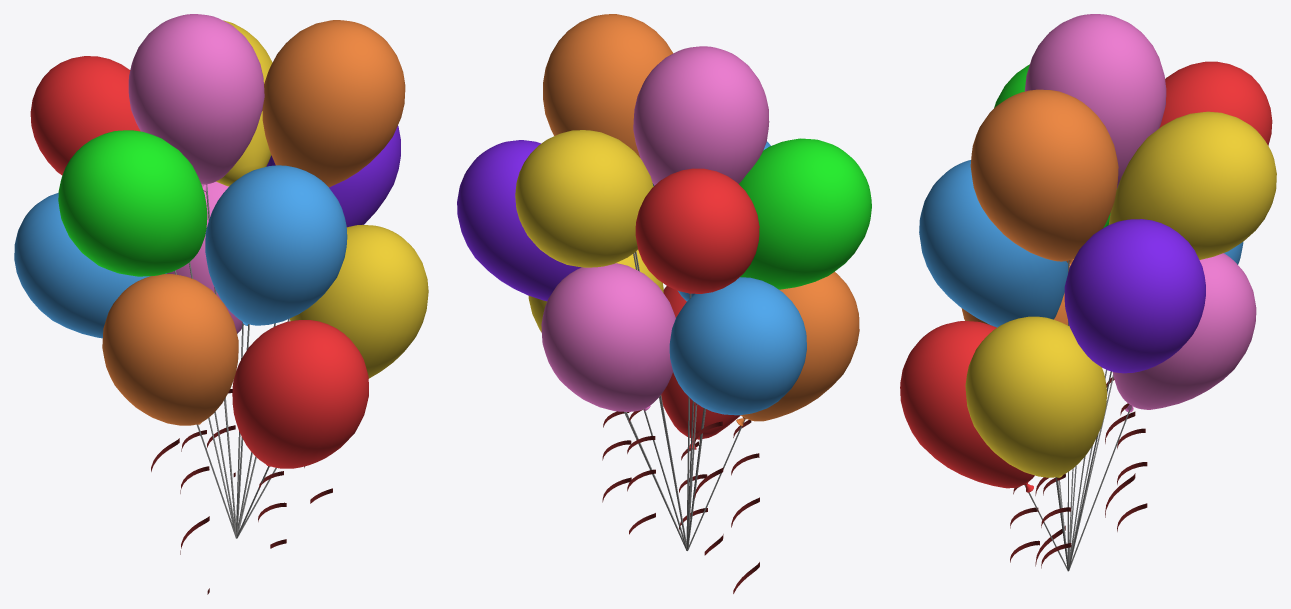
The model's file is balloon.fbx.
The picture shows the model from 3 angles, left to right: view 1: azimuth 30°, elevation 25°; view 2: azimuth 150°, elevation 25°; view 3: azimuth 270°, elevation 25°; orthographic projection. The views are drawn at different scales.
Visible parts, largest first — view 1: Sphere.001, Sphere, Sphere.003, Sphere.002, Sphere.004, Sphere.005, Sphere.006, Sphere.008, Sphere.011, Sphere.007, Sphere.010, Sphere.009; view 2: Sphere.009, Sphere.003, Sphere.008, Sphere.002, Sphere.010, Sphere.011, Sphere.001, Sphere.007, Sphere.004, Sphere.005, Sphere.006; view 3: Sphere.001, Sphere.006, Sphere.007, Sphere.010, Sphere, Sphere.002, Sphere.005, Sphere.009, Sphere.011, Sphere.003, Plane.001.
Part boxes in pixels (x1=…): Sphere.001: x1=262, y1=20, x2=405, y2=187; Sphere: x1=205, y1=165, x2=347, y2=325; Sphere.003: x1=58, y1=130, x2=207, y2=276; Sphere.002: x1=128, y1=14, x2=264, y2=192; Sphere.004: x1=102, y1=274, x2=238, y2=425; Sphere.005: x1=232, y1=320, x2=368, y2=468; Sphere.006: x1=290, y1=224, x2=428, y2=378; Sphere.008: x1=14, y1=192, x2=166, y2=338; Sphere.011: x1=30, y1=56, x2=140, y2=175; Sphere.007: x1=266, y1=126, x2=400, y2=227; Sphere.010: x1=216, y1=20, x2=272, y2=186; Sphere.009: x1=167, y1=182, x2=243, y2=333; Sphere.009: x1=541, y1=263, x2=675, y2=411; Sphere.003: x1=739, y1=138, x2=871, y2=289; Sphere.008: x1=669, y1=277, x2=806, y2=415; Sphere.002: x1=633, y1=46, x2=769, y2=185; Sphere.010: x1=515, y1=130, x2=653, y2=267; Sphere.011: x1=635, y1=168, x2=759, y2=293; Sphere.001: x1=543, y1=14, x2=673, y2=157; Sphere.007: x1=457, y1=140, x2=581, y2=301; Sphere.004: x1=736, y1=271, x2=859, y2=426; Sphere.005: x1=661, y1=286, x2=740, y2=449; Sphere.006: x1=528, y1=250, x2=663, y2=332; Sphere.001: x1=970, y1=89, x2=1118, y2=263; Sphere.006: x1=965, y1=316, x2=1107, y2=477; Sphere.007: x1=1064, y1=219, x2=1205, y2=373; Sphere.010: x1=1108, y1=111, x2=1276, y2=259; Sphere: x1=919, y1=160, x2=1069, y2=327; Sphere.002: x1=1024, y1=14, x2=1166, y2=188; Sphere.005: x1=900, y1=321, x2=1034, y2=492; Sphere.009: x1=1112, y1=253, x2=1256, y2=412; Sphere.011: x1=1159, y1=61, x2=1272, y2=145; Sphere.003: x1=994, y1=64, x2=1110, y2=227; Plane.001: x1=1117, y1=403, x2=1147, y2=531.
Size of the model in its own units: 929 by 1371 by 807.
